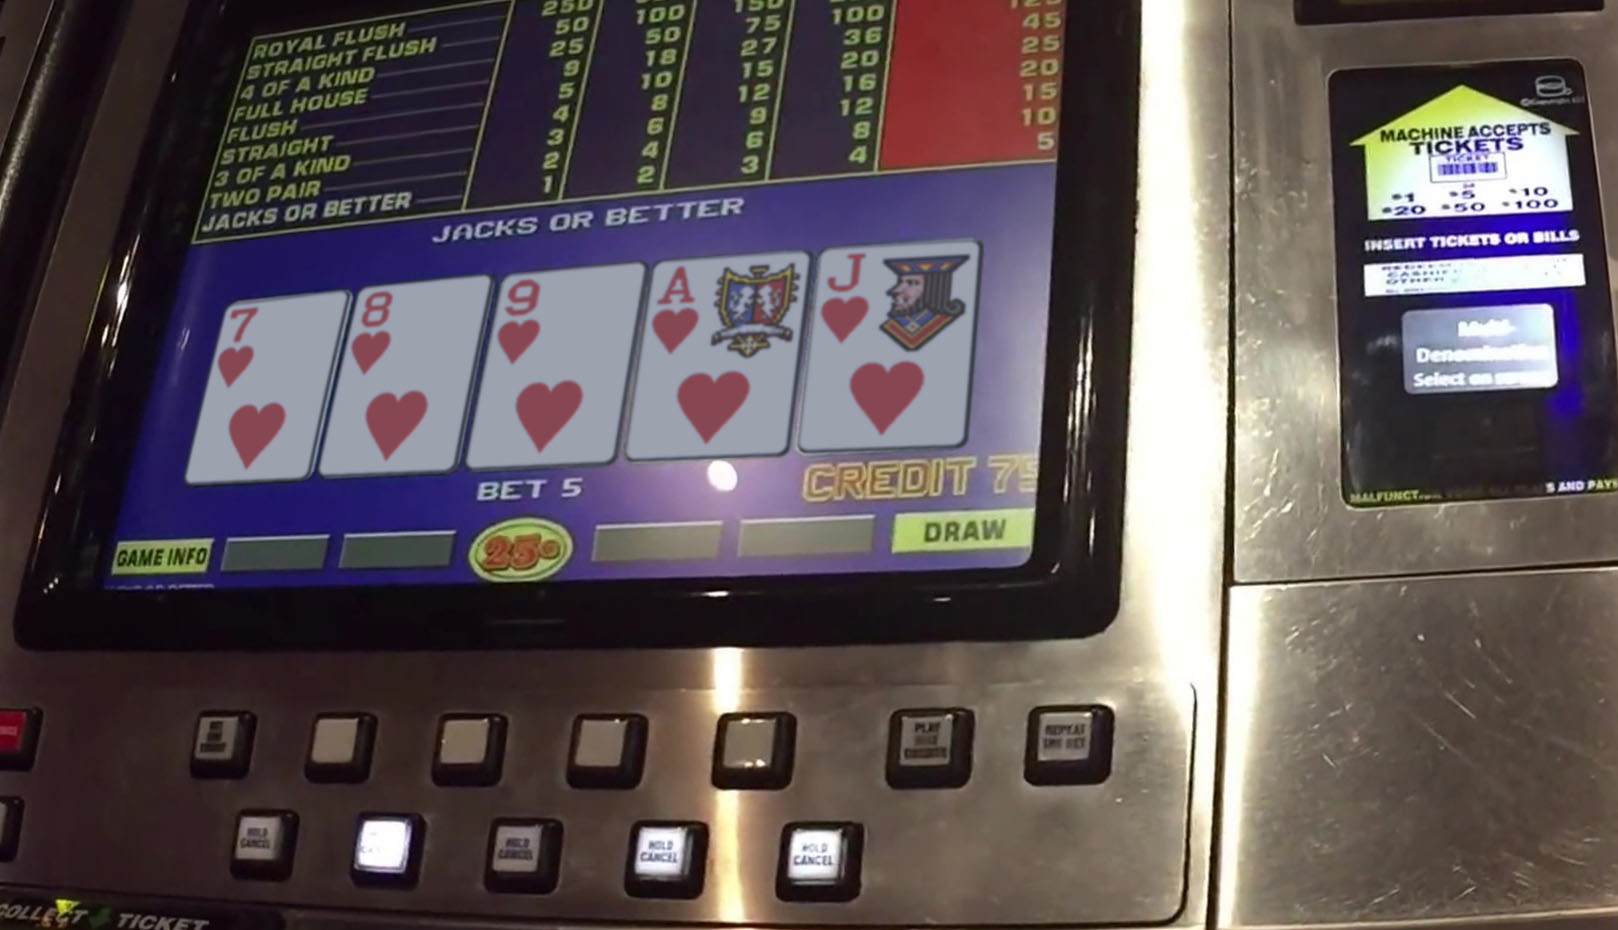H7: (217, 299, 340, 394)
H8: (352, 284, 471, 382)
H9: (495, 268, 637, 376)
HA: (653, 258, 795, 371)
HJ: (816, 248, 973, 357)
